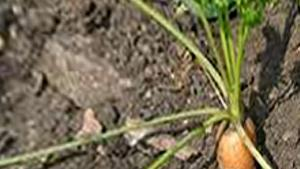carrot: (209, 106, 279, 169)
